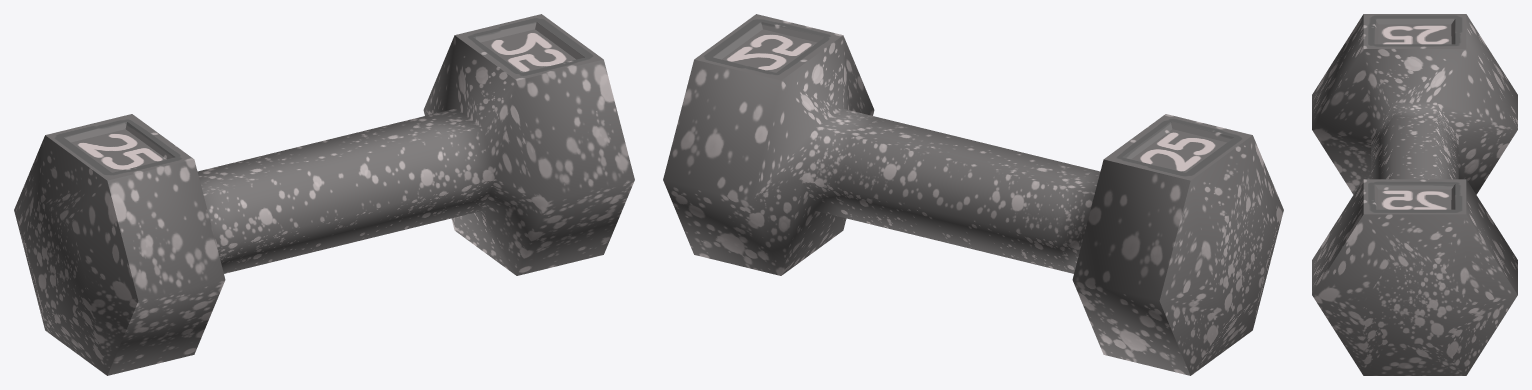
Rendered from Barbell Export.fbx.
3 renders of one model, left to right at view 1: azimuth 30°, elevation 25°; view 2: azimuth 150°, elevation 25°; view 3: azimuth 270°, elevation 25°, orthographic. The views are drawn at different scales.
Visible parts, largest first — view 1: Cylinder001; view 2: Cylinder001; view 3: Cylinder001.
Part boxes in pixels (x1=…): Cylinder001: x1=14, y1=14, x2=634, y2=375; Cylinder001: x1=663, y1=14, x2=1283, y2=375; Cylinder001: x1=1312, y1=14, x2=1517, y2=375.
Size of the model in its own units: 89.29 by 31.04 by 35.84.
